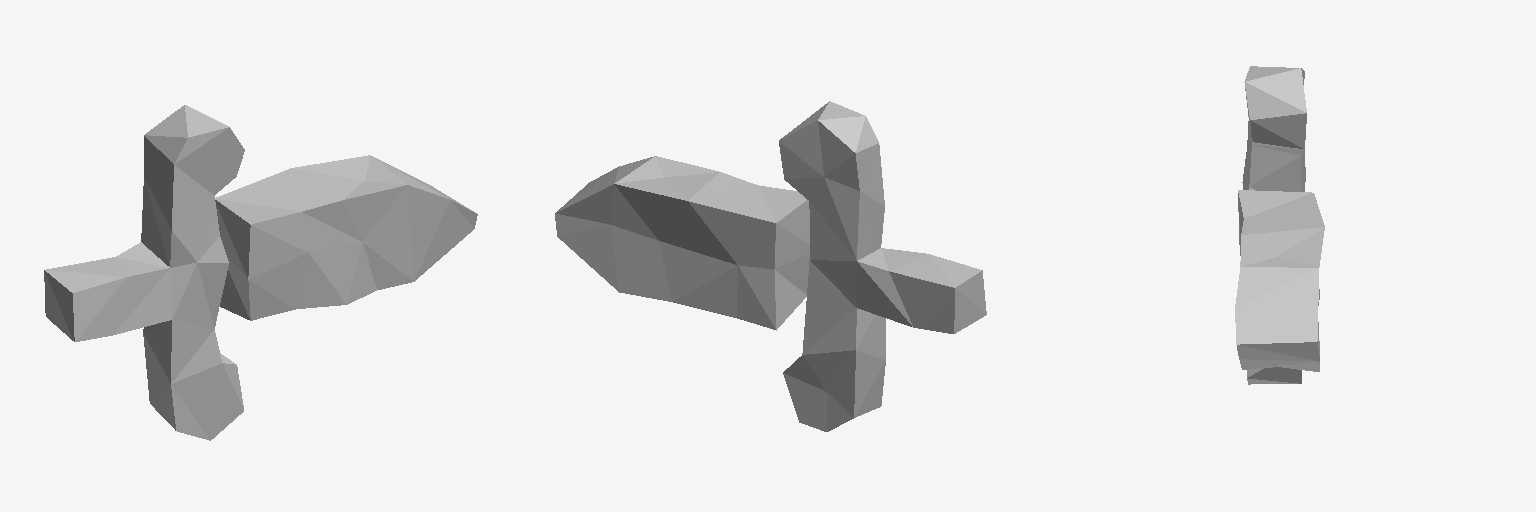
The model's file is 3d_dagger.obj.
3 views of the same model, side by side, from view 1: azimuth 30°, elevation 25°; view 2: azimuth 150°, elevation 25°; view 3: azimuth 270°, elevation 25° (orthographic).
Parts seen in each view (by area): view 1: Dagger_Curve.005; view 2: Dagger_Curve.005; view 3: Dagger_Curve.005.
Part boxes in pixels (left/top/right/bottom): Dagger_Curve.005: left=44, top=105, right=477, bottom=440; Dagger_Curve.005: left=555, top=101, right=986, bottom=431; Dagger_Curve.005: left=1235, top=66, right=1324, bottom=384.
Bounding box in the file's own units: 0.8186 × 0.6193 × 0.1597.